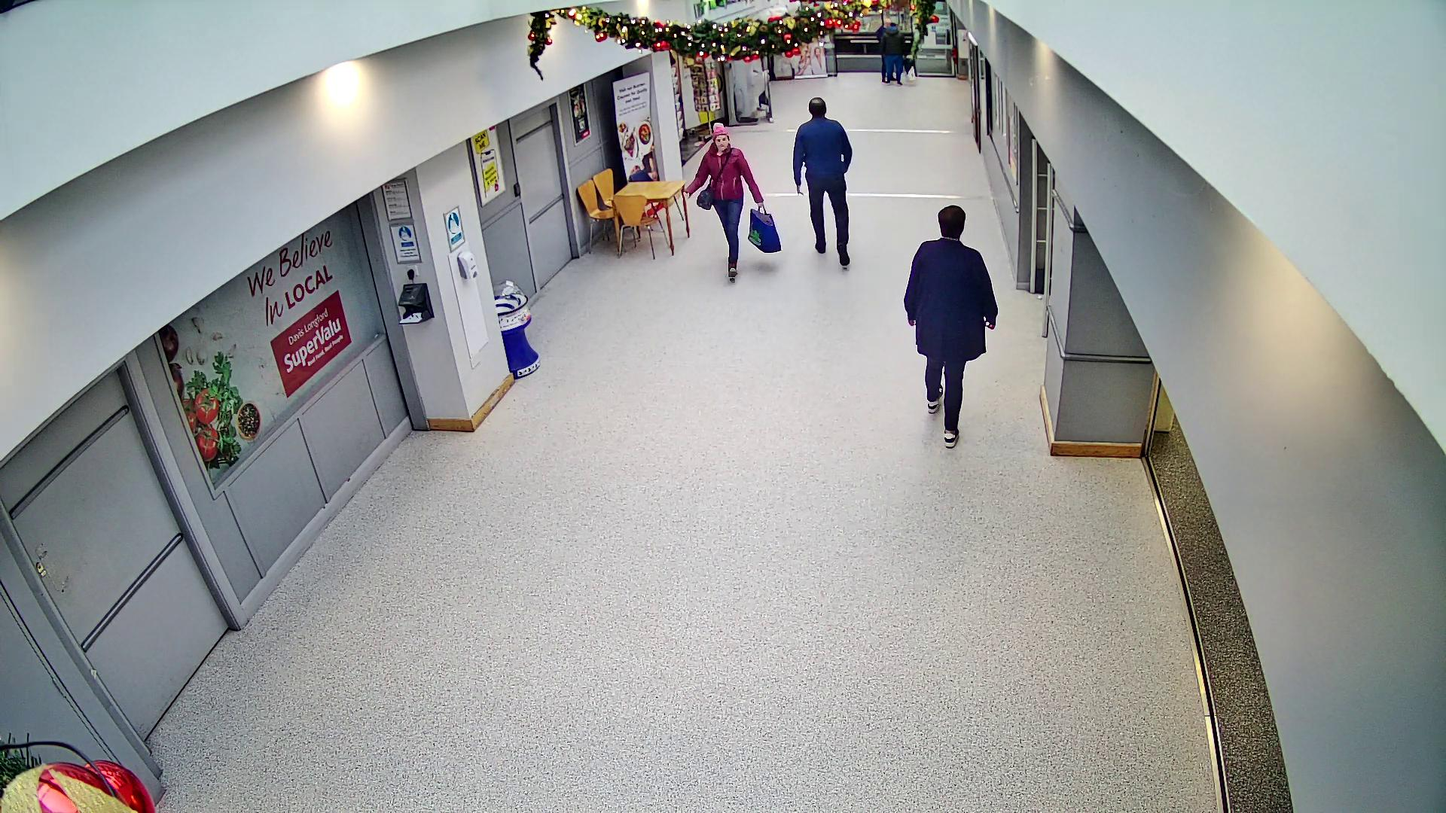backpack-or-handbag: (696, 186, 714, 209)
filled-shopping-bags: (745, 204, 781, 252)
person: (684, 121, 764, 277)
person with carrying item-s- and shopping bag-s-: (684, 121, 782, 277)
